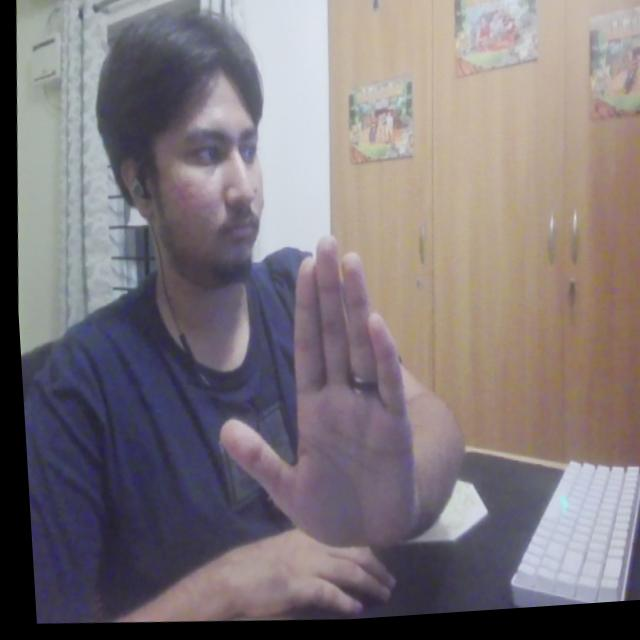hello: (193, 222, 434, 593)
